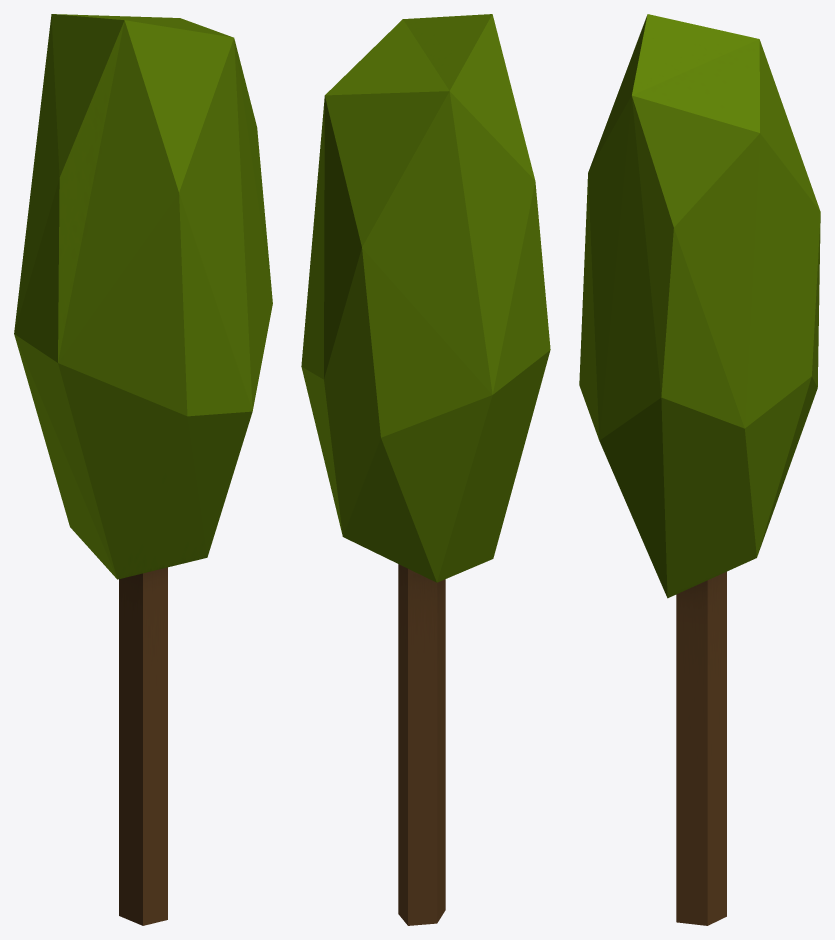
File: tree2New.glb
3 views of the same model, side by side, from view 1: azimuth 30°, elevation 25°; view 2: azimuth 150°, elevation 25°; view 3: azimuth 270°, elevation 25° (orthographic). The views are drawn at different scales.
Parts seen in each view (by area): view 1: Sphere; view 2: Sphere; view 3: Sphere.
Boxes of the visible parts, x1,y1,x2,y2 form: Sphere: [14, 14, 272, 925]; Sphere: [301, 14, 550, 925]; Sphere: [579, 14, 820, 925].
Size of the model in its own units: 2.07 by 8.37 by 2.08.
2 materials, 2 textured.
